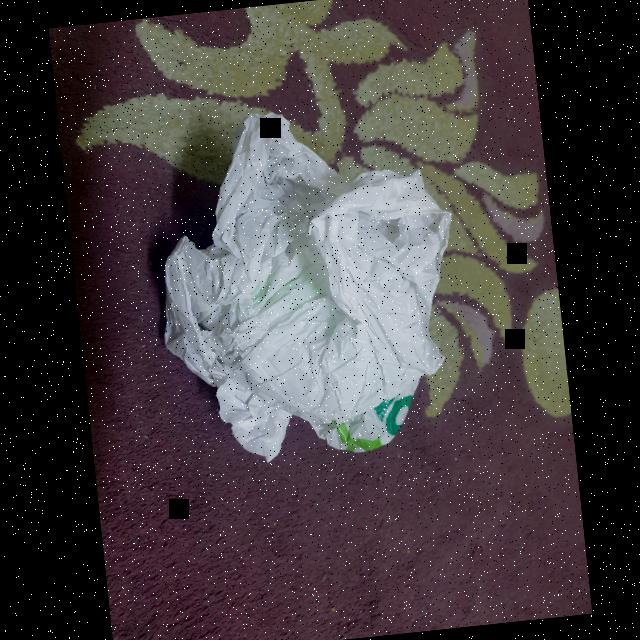plastic_bag: (131, 88, 484, 486)
